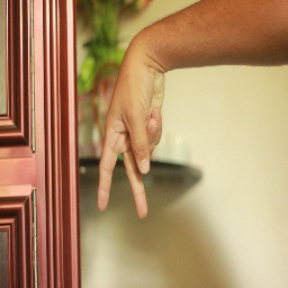Y: (91, 71, 168, 221)
